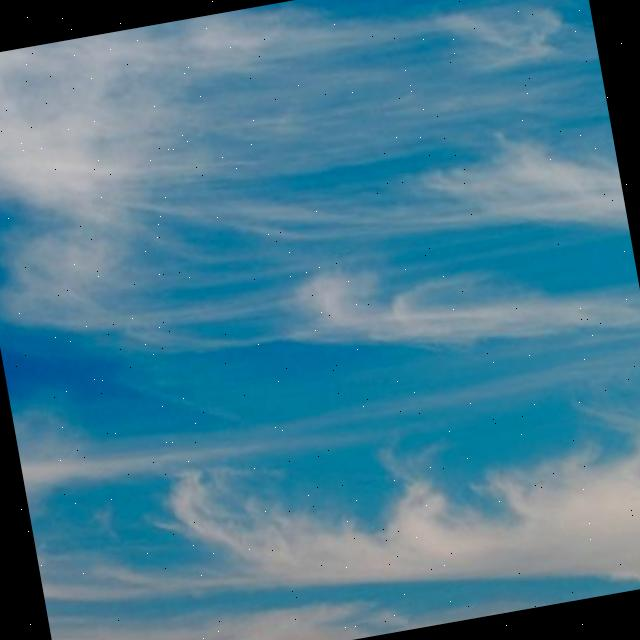Ci: (1, 1, 640, 455)
